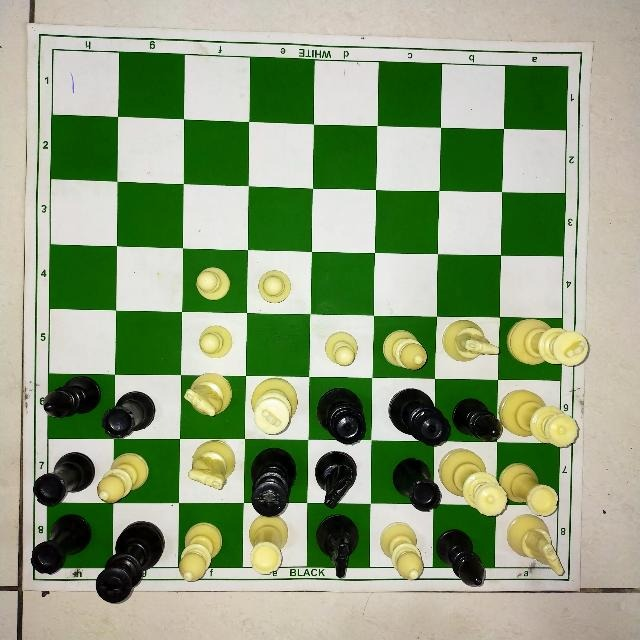black-bishop: (432, 521, 493, 592), (36, 376, 104, 426), (448, 391, 506, 443)
black-king: (92, 518, 170, 605), (244, 445, 302, 519)
black-knight: (316, 514, 373, 579), (312, 450, 364, 510)
black-queen: (382, 384, 456, 446), (314, 384, 368, 446)
black-rook: (27, 512, 93, 576), (27, 451, 95, 507), (389, 456, 444, 514), (100, 388, 156, 439)
white-bishop: (177, 519, 227, 583), (95, 450, 151, 506), (379, 519, 429, 581), (379, 327, 428, 373)
white-king: (505, 315, 590, 375), (249, 372, 299, 437)
white-knight: (504, 513, 570, 577), (438, 316, 500, 364), (186, 436, 238, 493), (182, 372, 235, 421)
white-pawn: (191, 265, 235, 303), (256, 266, 296, 306), (320, 329, 360, 368), (196, 322, 235, 361)
white-queen: (498, 387, 582, 449), (439, 446, 511, 518)
white-rook: (498, 460, 562, 517), (246, 512, 291, 573)
